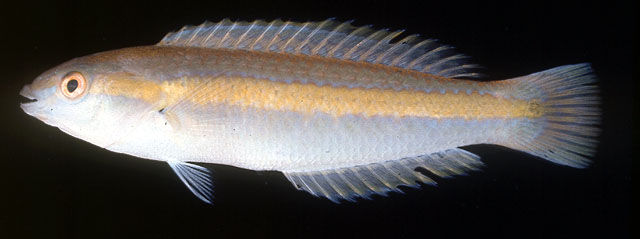fish: (19, 16, 601, 205)
